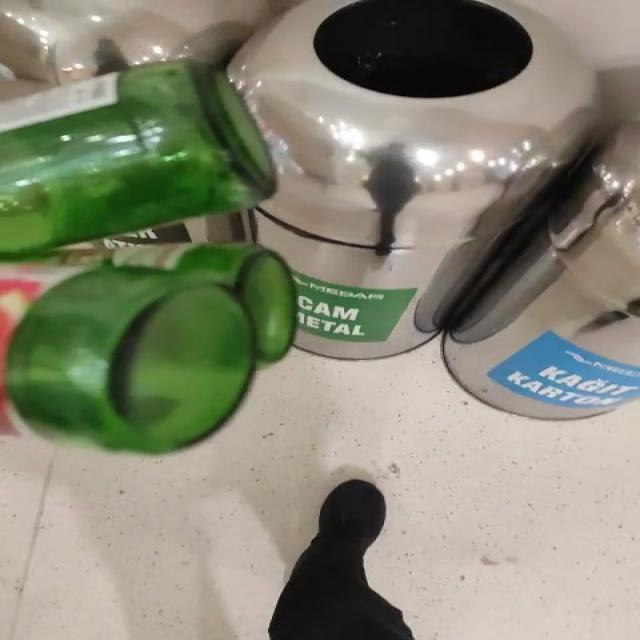Bin: (228, 0, 595, 360)
Glass: (1, 59, 296, 454)
